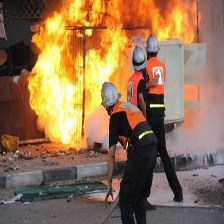fire: (27, 1, 203, 143)
smoke: (183, 98, 223, 154)
